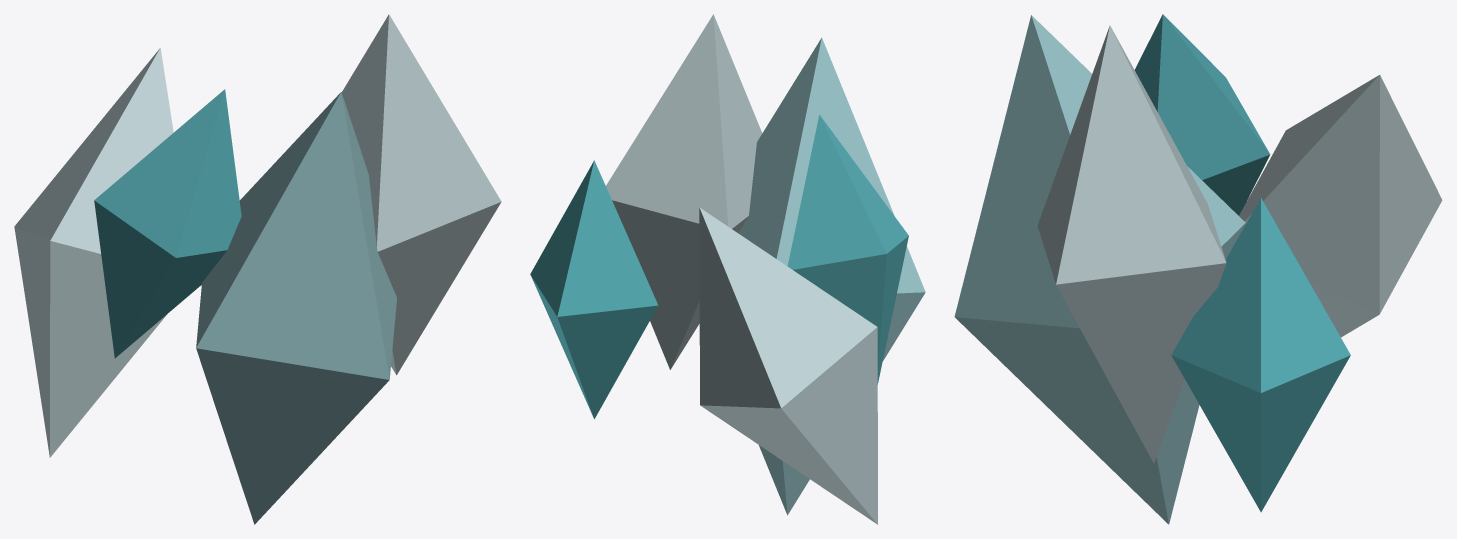
The model's file is frozen_marker.glb.
3 views of the same model, side by side, from view 1: azimuth 30°, elevation 25°; view 2: azimuth 150°, elevation 25°; view 3: azimuth 270°, elevation 25° (orthographic). The views are drawn at different scales.
Parts seen in each view (by area): view 1: crystal_2, crystal_1, crystal_4, crystal_3; view 2: crystal_4, crystal_1, crystal_0, crystal_2, crystal_3; view 3: crystal_1, crystal_2, crystal_4, crystal_0, crystal_3.
Part boxes in pixels (x1=…): crystal_2: x1=196, y1=92, x2=396, y2=524; crystal_1: x1=341, y1=14, x2=501, y2=375; crystal_4: x1=14, y1=48, x2=173, y2=457; crystal_3: x1=94, y1=89, x2=241, y2=358; crystal_4: x1=699, y1=207, x2=877, y2=524; crystal_1: x1=606, y1=14, x2=762, y2=369; crystal_0: x1=530, y1=160, x2=658, y2=419; crystal_2: x1=738, y1=37, x2=925, y2=515; crystal_3: x1=787, y1=114, x2=908, y2=384; crystal_1: x1=1037, y1=25, x2=1226, y2=463; crystal_2: x1=954, y1=15, x2=1245, y2=524; crystal_4: x1=1239, y1=75, x2=1442, y2=337; crystal_0: x1=1171, y1=198, x2=1350, y2=512; crystal_3: x1=1134, y1=14, x2=1270, y2=215.
Size of what is drawn, in the model's own units: 1.88 by 2.31 by 1.83.
